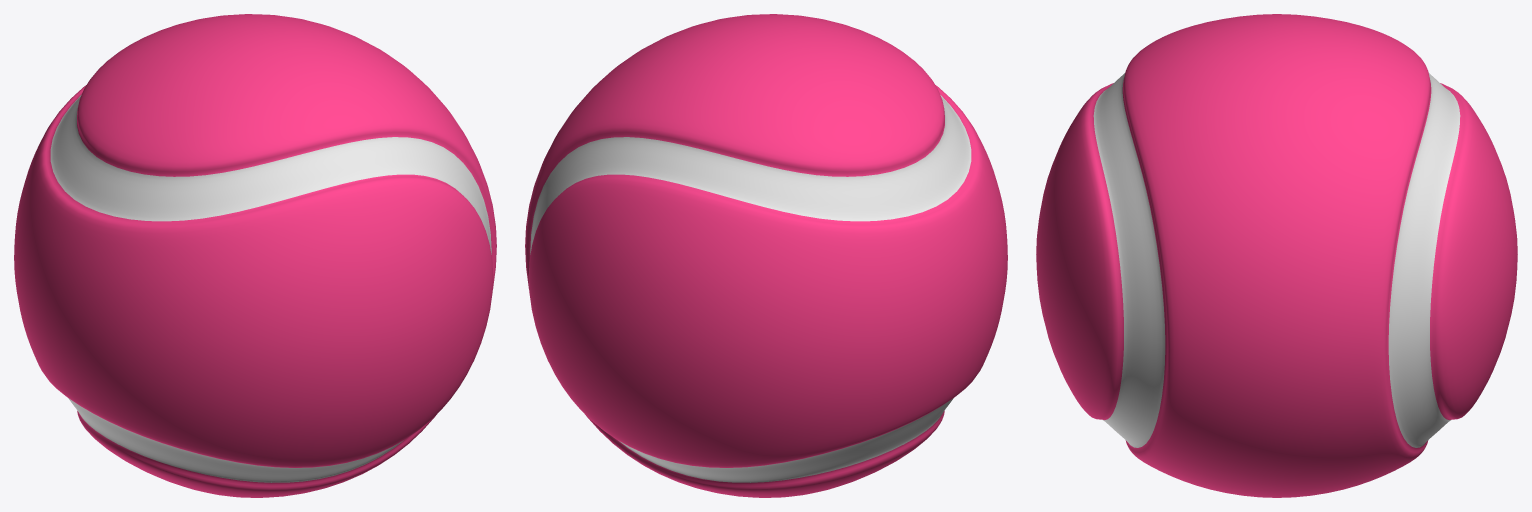
The model's file is ball.fbx.
3 renders of one model, left to right at view 1: azimuth 30°, elevation 25°; view 2: azimuth 150°, elevation 25°; view 3: azimuth 270°, elevation 25°, orthographic.
Parts seen in each view (by area): view 1: Ball; view 2: Ball; view 3: Ball.
Boxes of the visible parts, bbox=[...] form: Ball: bbox=[14, 14, 496, 497]; Ball: bbox=[525, 14, 1007, 497]; Ball: bbox=[1036, 14, 1517, 497].
Bounding box in the file's own units: 9.98 × 9.91 × 9.91.
